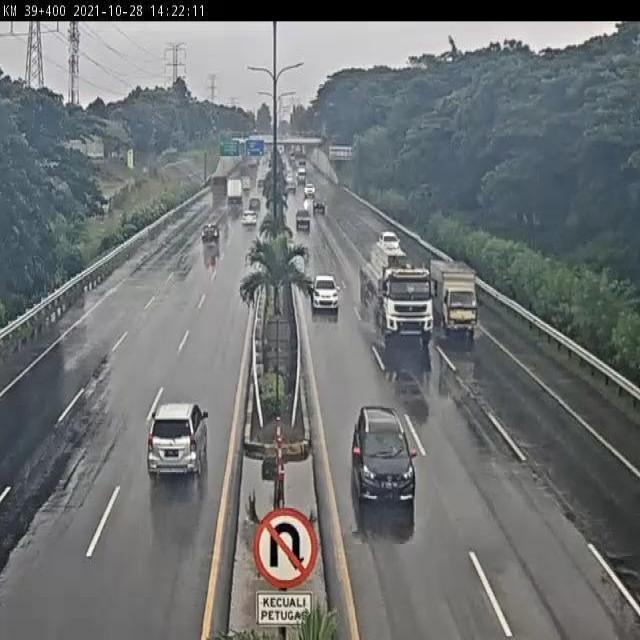car: (350, 405, 417, 512), (146, 399, 209, 480), (199, 220, 219, 247)
truck-s-: (429, 260, 479, 343)
truck-xl-: (362, 239, 436, 348)
